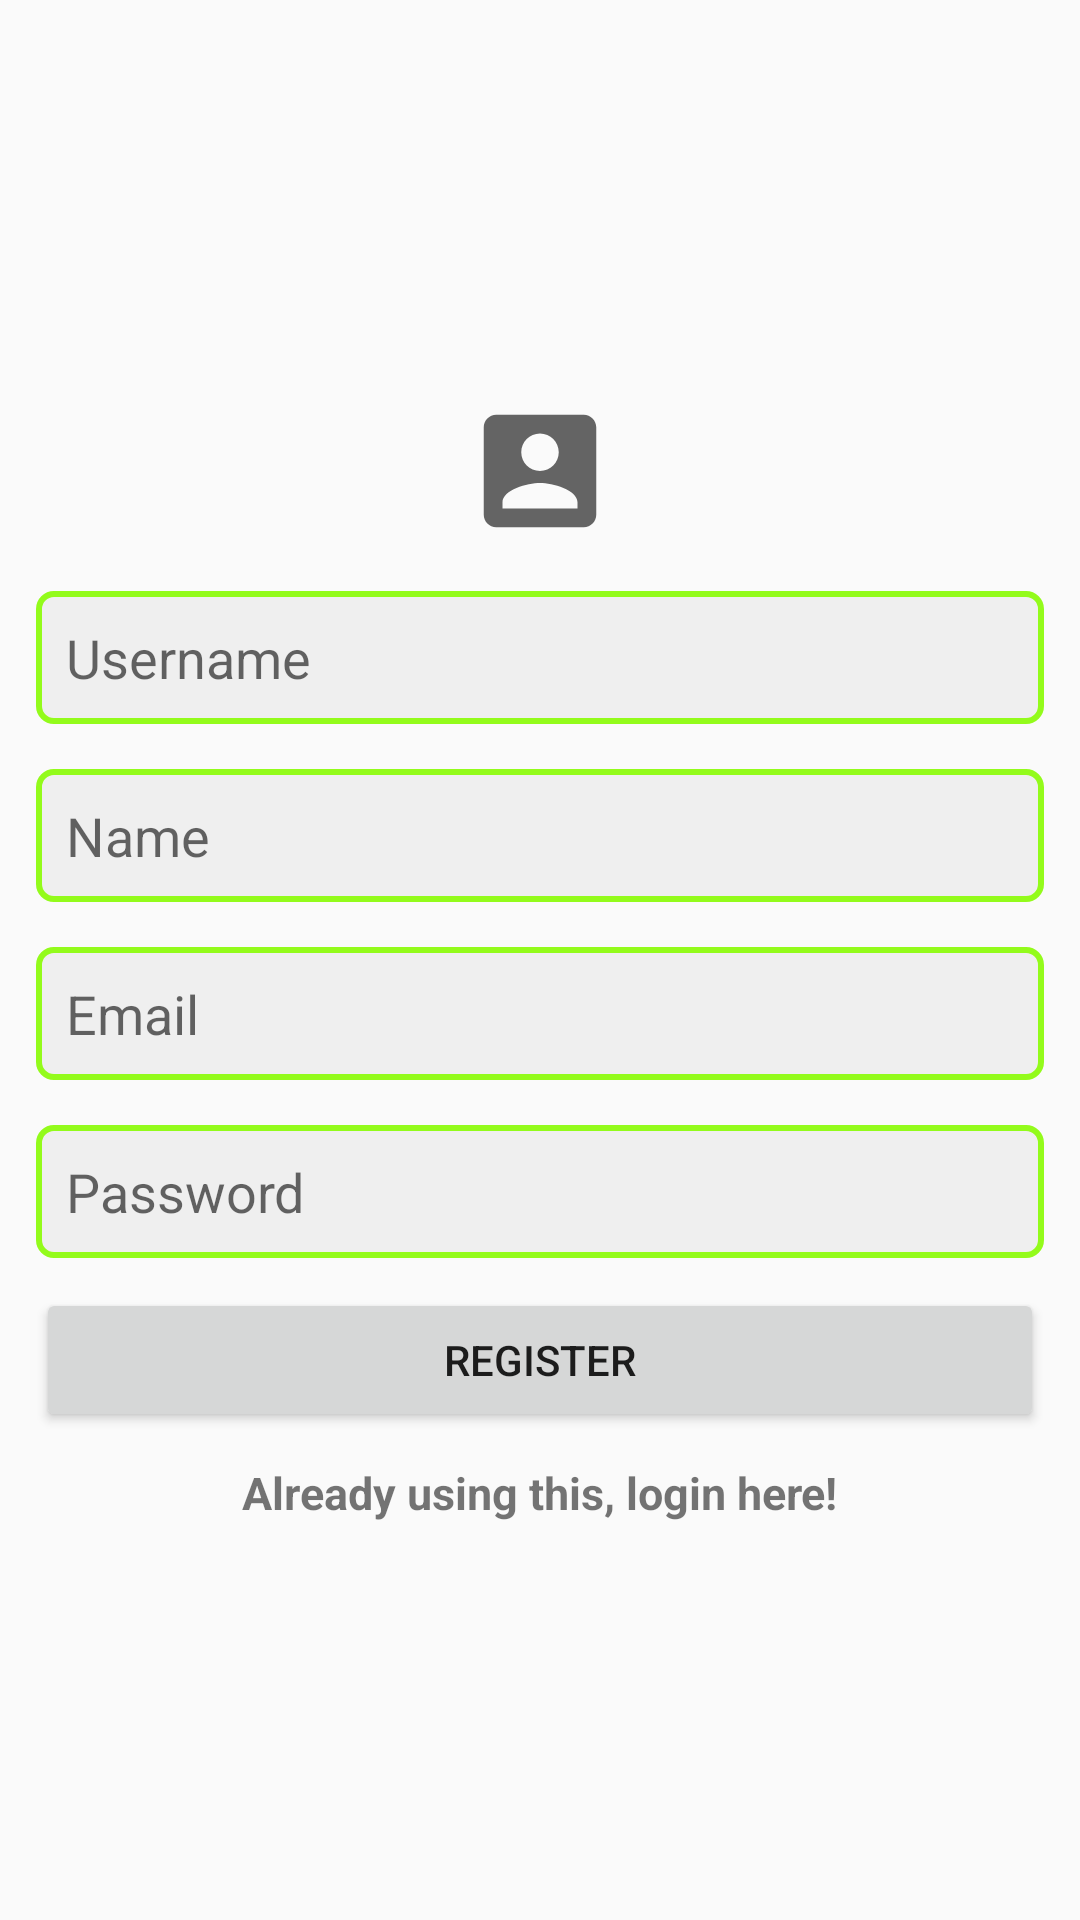

Named icons in this screenshot (1080px×1920px) and their bounding boxes, (x1, y1, x2, y2):
account box: (483, 414, 597, 528)
